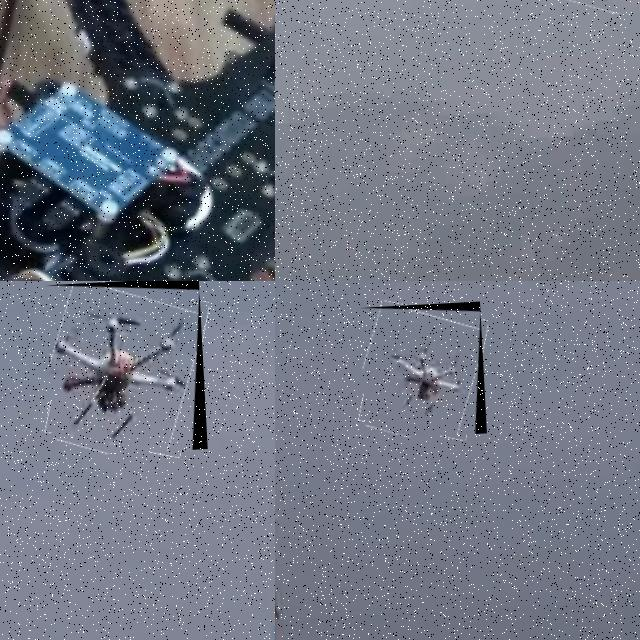drone: (0, 0, 275, 281), (45, 281, 208, 457), (359, 301, 487, 440)
